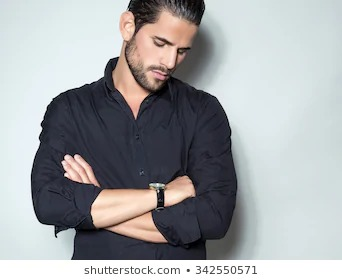F_shirt: (25, 63, 237, 258)
